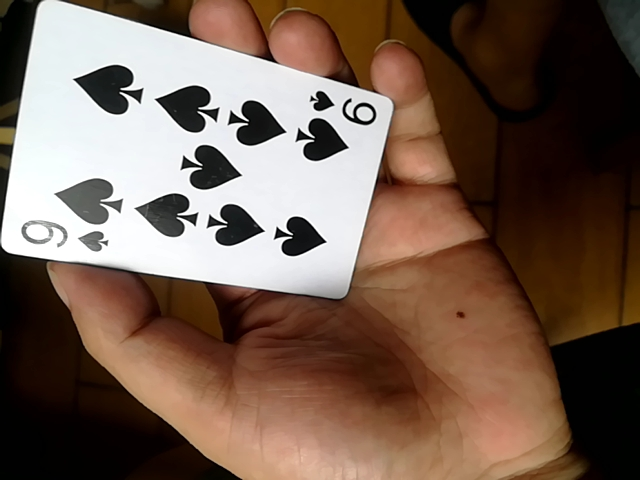ht 9: (7, 2, 397, 306)
